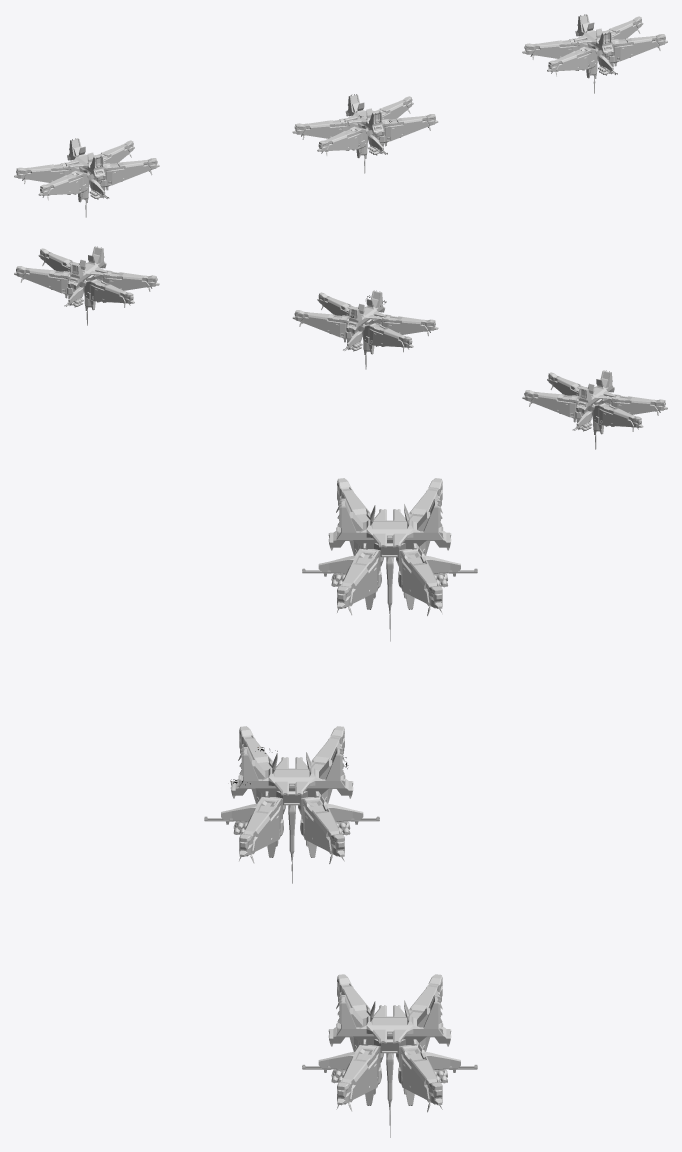
File: MissionSequence_M04_Intro.glb
The picture shows the model from 3 angles, top to bottom: view 1: azimuth 30°, elevation 25°; view 2: azimuth 150°, elevation 25°; view 3: azimuth 270°, elevation 25°; orthographic projection. The views are drawn at different scales.
Visible parts, largest first — view 1: Body, Body (2), Body (1); view 2: Body (1), Body (2), Body; view 3: Body (2), Body (1), Body.
Part boxes in pixels (<box>): Body: <box>292,94,438,173</box>; Body (2): <box>14,138,159,217</box>; Body (1): <box>522,14,667,93</box>; Body (1): <box>14,246,159,325</box>; Body (2): <box>522,370,667,449</box>; Body: <box>292,290,438,369</box>; Body (2): <box>302,478,477,641</box>; Body (1): <box>302,974,477,1137</box>; Body: <box>204,726,379,883</box>.
Size of what is drawn, in the model's own units: 371 by 39.49 by 69.91.
Materials: 2 (1 with a texture image).
